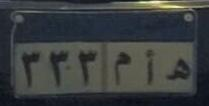3: (19, 49, 43, 90), (47, 47, 69, 90), (76, 48, 99, 88)
alif: (143, 48, 157, 87)
haa: (163, 56, 193, 87)
meem: (112, 49, 132, 87)
